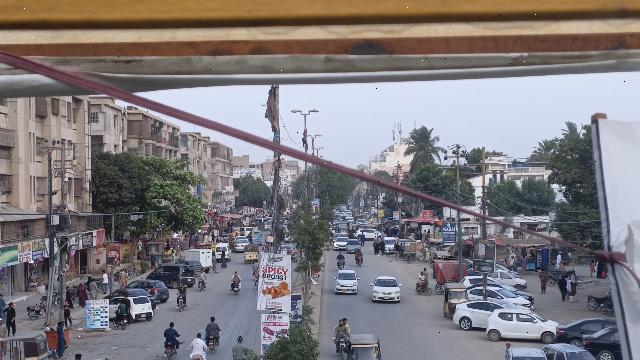Bike: (112, 299, 129, 331), (162, 340, 179, 360), (205, 333, 220, 355), (414, 281, 433, 298), (334, 334, 348, 353), (175, 293, 188, 313), (230, 283, 242, 299), (196, 279, 206, 294)
Car: (484, 307, 557, 344), (452, 298, 511, 333), (554, 318, 612, 344), (581, 325, 619, 360), (147, 264, 197, 288), (369, 275, 402, 305), (332, 269, 361, 296)
Person: (4, 300, 17, 335), (59, 298, 74, 327), (189, 333, 208, 355), (566, 274, 578, 304), (162, 320, 179, 341), (204, 314, 220, 336), (536, 268, 549, 294), (76, 281, 88, 309), (557, 275, 568, 303), (99, 269, 110, 293), (88, 278, 99, 300), (335, 316, 347, 335), (117, 268, 128, 287), (417, 271, 427, 286), (177, 283, 188, 296), (232, 271, 241, 284), (197, 267, 206, 280)
Rickshaw: (344, 331, 383, 360), (440, 282, 469, 320), (242, 243, 260, 264)
Truck: (181, 246, 214, 272)
